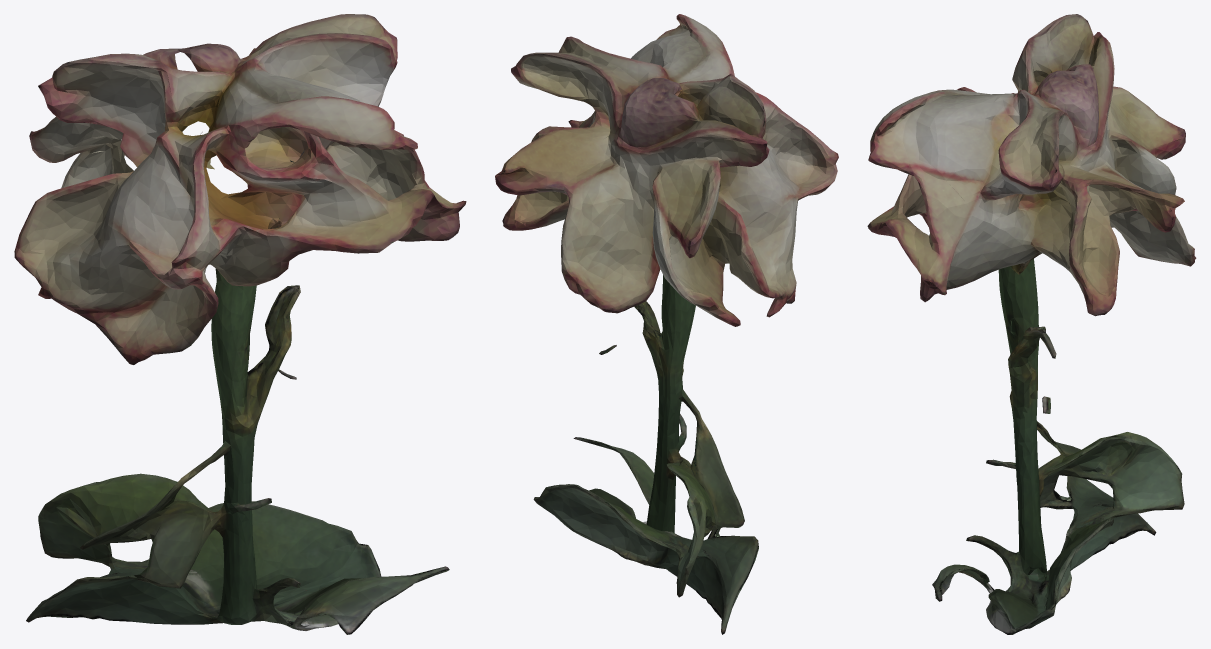
3 renders of one model, left to right at view 1: azimuth 30°, elevation 25°; view 2: azimuth 150°, elevation 25°; view 3: azimuth 270°, elevation 25°, orthographic. The views are drawn at different scales.
Visible parts, largest first — view 1: world; view 2: world; view 3: world.
Part boxes in pixels (x1,y1,x2,y2): world: [14, 14, 466, 634]; world: [495, 14, 838, 634]; world: [867, 14, 1196, 634].
Bounding box in the file's own units: 0.5635 × 0.9318 × 0.5276.
Materials: 1 (1 with a texture image).
